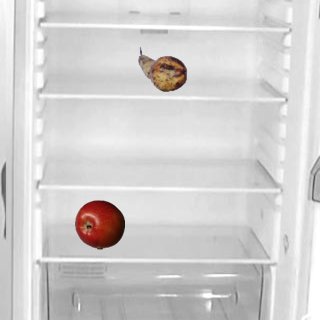Apple Braeburn: (74, 199, 124, 249)
Pear Abate: (137, 44, 187, 94)
